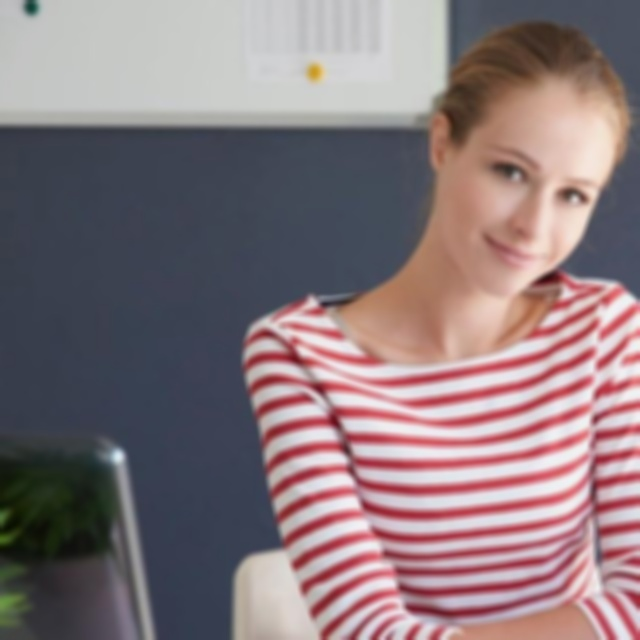Sin_Casco_Mascarrilla: (431, 20, 626, 293)
Sin_Chaleco: (255, 283, 640, 631)
